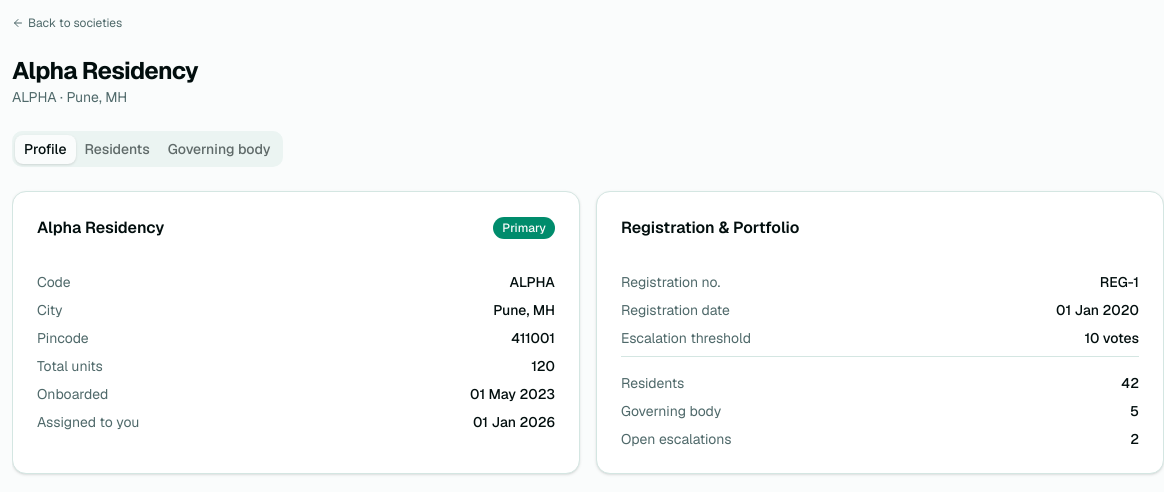
Scenario: CounsellorSocietyDetailPage › renders governing body tab with members
Click the tab "Governing body".
click(219, 149)  # box [159,134,280,164]
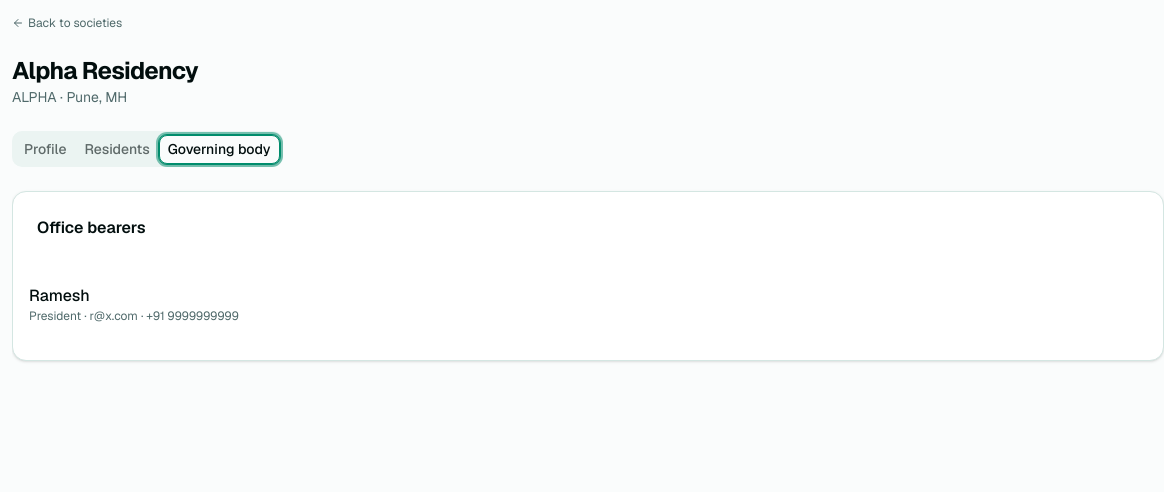
Now the text "Ramesh" is shown, box [29,285,90,306]
Now the text "President · r@x.com · +91 9999999999" is shown, box [29,308,239,324]
